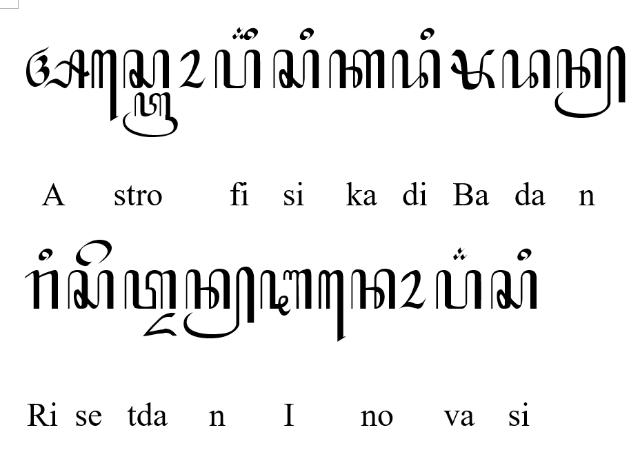-n: (182, 266, 255, 340), (554, 44, 626, 118)
A: (26, 45, 90, 89)
B: (450, 48, 496, 90)
I: (259, 268, 313, 316)
_d: (141, 312, 177, 336)
alt: (232, 26, 248, 40), (452, 247, 468, 261)
d: (502, 48, 550, 90), (391, 49, 441, 89)
e: (75, 240, 113, 266)
e1: (91, 48, 119, 124), (318, 269, 346, 343)
i: (516, 246, 532, 262), (245, 25, 259, 41), (298, 28, 314, 42), (420, 26, 434, 42), (37, 247, 53, 260)
k: (328, 48, 386, 90)
n: (351, 270, 397, 310)
o: (178, 49, 206, 89), (398, 269, 426, 309)
p: (436, 269, 482, 311), (216, 48, 260, 90)
r: (24, 270, 60, 310)
s: (121, 47, 170, 89), (272, 49, 320, 89), (490, 270, 538, 310), (68, 269, 114, 309)
t: (124, 270, 178, 310)
tr: (123, 91, 179, 137)
